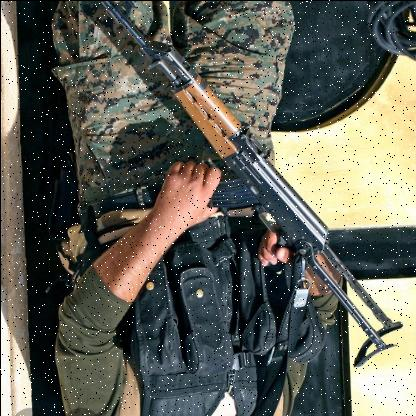rifle: (100, 0, 404, 368)
